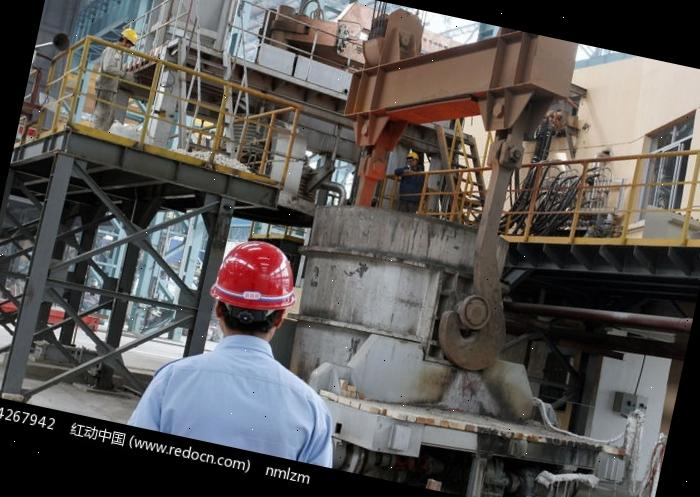helmet: (207, 235, 302, 320), (118, 25, 142, 43), (1, 300, 21, 316), (404, 148, 420, 164), (0, 283, 11, 303)
wear: (142, 339, 334, 464)
